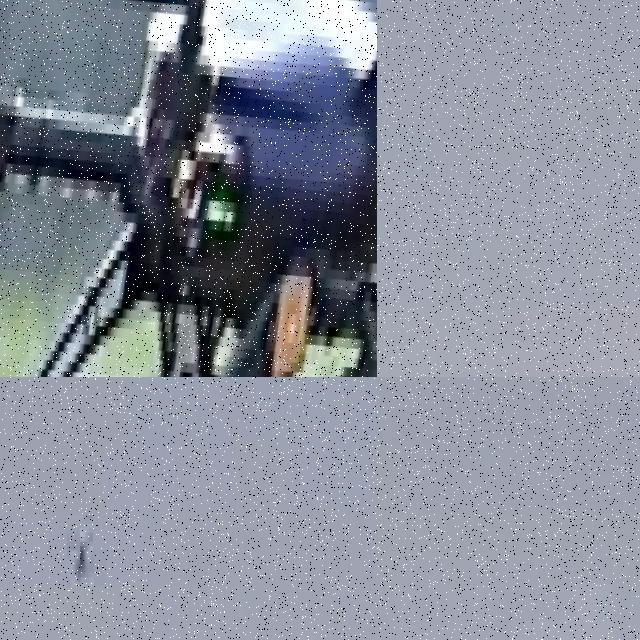drone: (0, 0, 377, 377)
